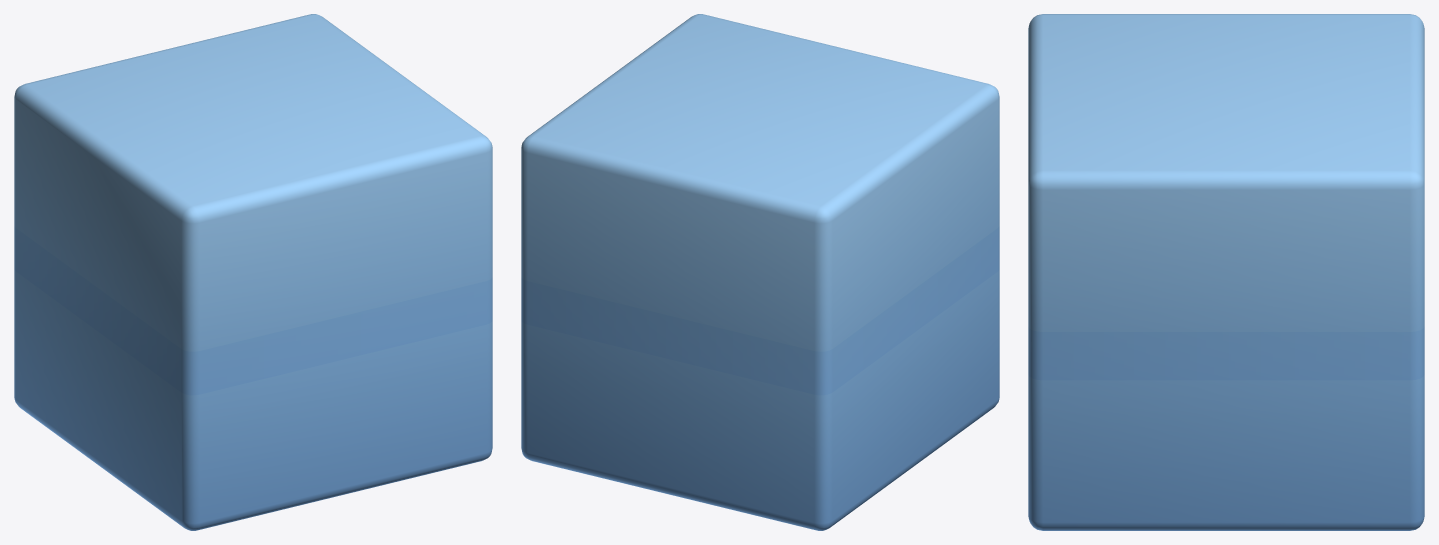
3 views of the same model, side by side, from view 1: azimuth 30°, elevation 25°; view 2: azimuth 150°, elevation 25°; view 3: azimuth 270°, elevation 25° (orthographic). The views are drawn at different scales.
Parts seen in each view (by area): view 1: Cube_14; view 2: Cube_14; view 3: Cube_14.
Boxes of the visible parts, x1,y1,x2,y2 form: Cube_14: [14, 14, 492, 530]; Cube_14: [521, 14, 999, 530]; Cube_14: [1028, 14, 1424, 530].
Bounding box in the file's own units: 2 × 2 × 2.
